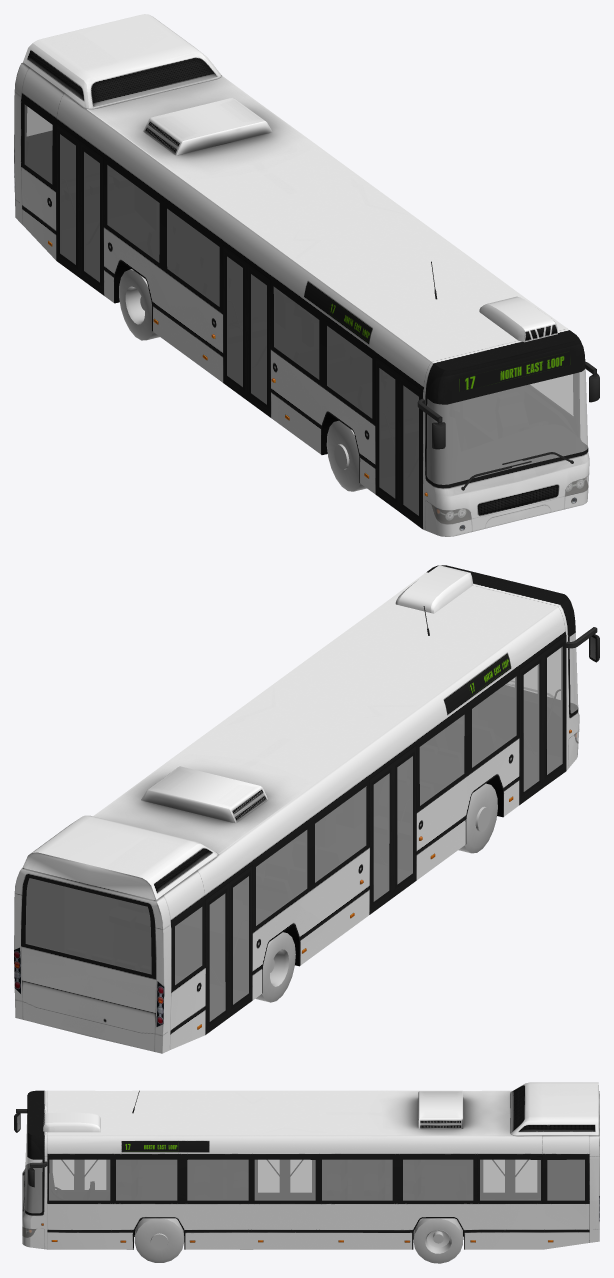
File: City_bus.FBX
3 views of the same model, one above another, from view 1: azimuth 30°, elevation 25°; view 2: azimuth 150°, elevation 25°; view 3: azimuth 270°, elevation 25° (orthographic). The views are drawn at different scales.
Parts seen in each view (by area): view 1: City_bus_LOD0, Wheels_RR_LOD0, Wheels_FR_LOD0; view 2: City_bus_LOD0, Wheels_RR_LOD0, Wheels_FR_LOD0; view 3: City_bus_LOD0, Wheels_RL_LOD0, Wheels_FL_LOD0.
Boxes of the visible parts, x1,y1,x2,y2 form: City_bus_LOD0: (14,14,599,536); Wheels_RR_LOD0: (119,269,159,340); Wheels_FR_LOD0: (326,420,366,491); City_bus_LOD0: (14,565,599,1053); Wheels_RR_LOD0: (255,932,295,1002); Wheels_FR_LOD0: (458,783,497,853); City_bus_LOD0: (14,1082,599,1249); Wheels_RL_LOD0: (413,1218,462,1263); Wheels_FL_LOD0: (134,1218,184,1262).
Size of what is drawn, in the model's own units: 2.87 by 12.18 by 3.42.
